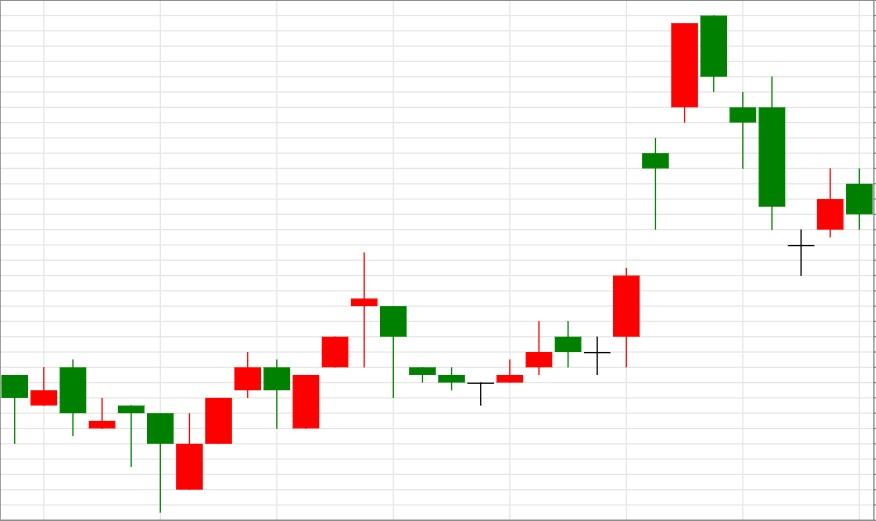three_white_soldiers_rise: (58, 352, 263, 513)
